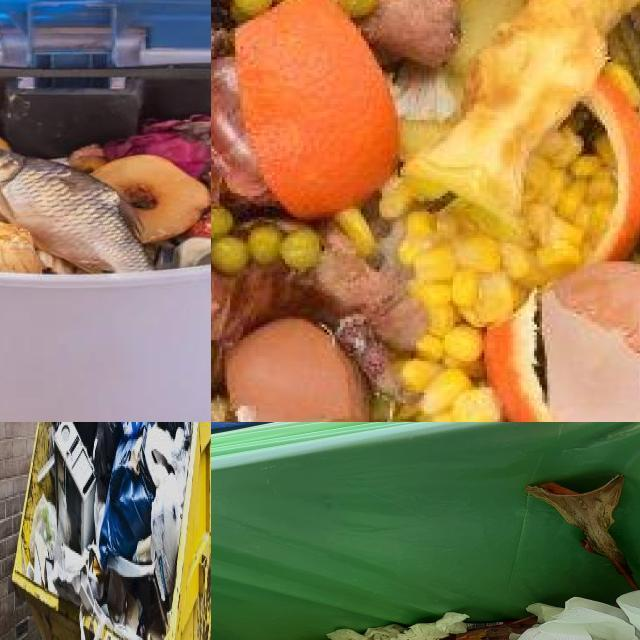E_waste: (55, 422, 95, 552)
Garbage: (211, 0, 640, 422), (0, 72, 211, 273), (20, 422, 194, 640)
Plastic_Bag: (100, 438, 153, 573), (150, 471, 186, 601), (93, 422, 122, 499)
